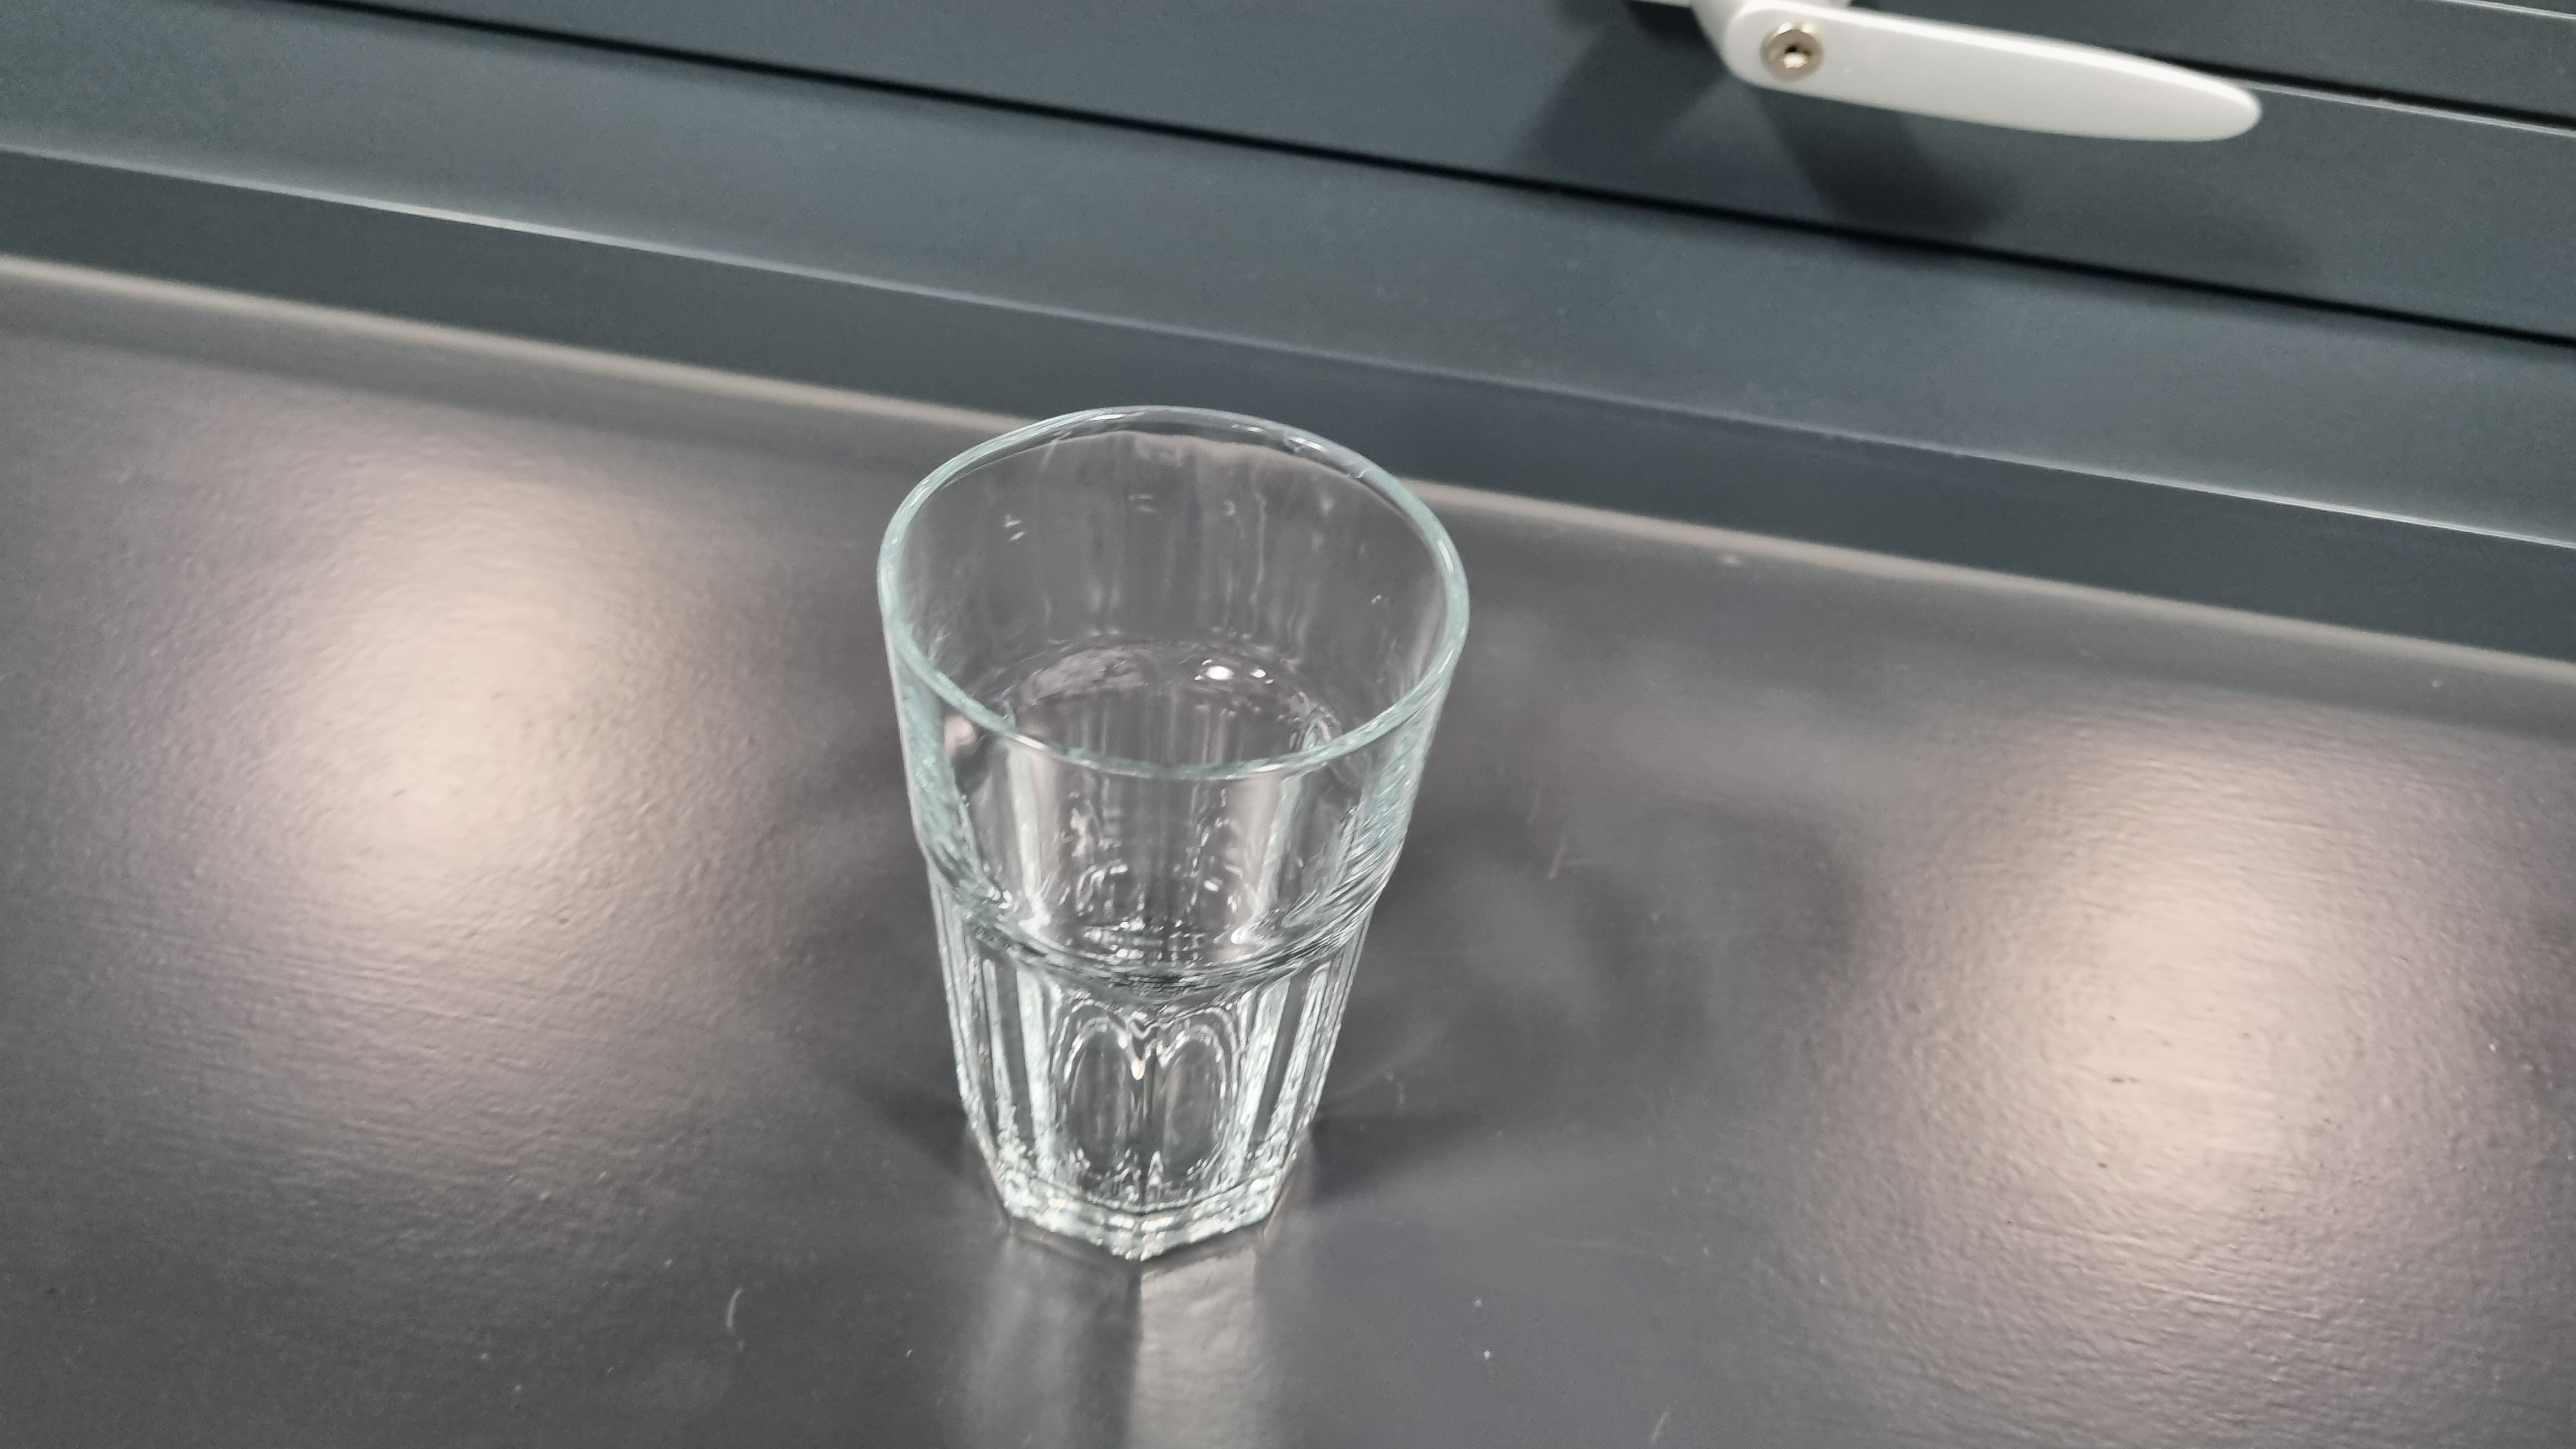glass: (837, 382, 1477, 1283)
